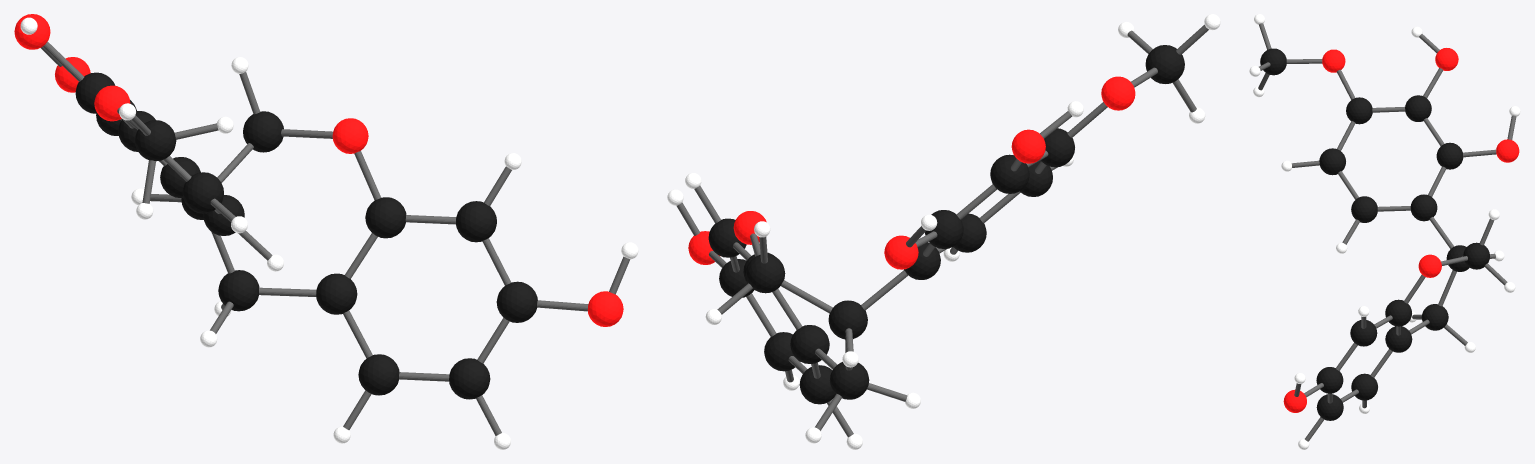
The model's file is molecule.glb.
3 renders of one model, left to right at view 1: azimuth 30°, elevation 25°; view 2: azimuth 150°, elevation 25°; view 3: azimuth 270°, elevation 25°, orthographic. The views are drawn at different scales.
Visible parts, largest first — view 1: geometry_13, geometry_14, geometry_11, geometry_15, geometry_9, geometry_10, geometry_7, geometry_16, geometry_3, geometry_0, geometry_8, geometry_12 (+6 smaller); view 2: geometry_7, geometry_6, geometry_15, geometry_0, geometry_16, geometry_19, geometry_17, geometry_14, geometry_2, geometry_1, geometry_10, geometry_20 (+8 smaller); view 3: geometry_17, geometry_4, geometry_2, geometry_19, geometry_3, geometry_5, geometry_14, geometry_11, geometry_16, geometry_7, geometry_9, geometry_0 (+9 smaller).
Part boxes in pixels (x1,y1,x2,y2): geometry_13: (449, 358, 490, 399); geometry_14: (358, 354, 399, 395); geometry_11: (496, 281, 537, 322); geometry_15: (316, 273, 357, 314); geometry_9: (365, 197, 406, 238); geometry_10: (456, 201, 496, 242); geometry_7: (243, 111, 283, 152); geometry_16: (218, 270, 259, 311); geometry_3: (182, 172, 223, 213); geometry_0: (135, 120, 176, 161); geometry_8: (332, 118, 368, 153); geometry_12: (587, 291, 623, 326); geometry_7: (745, 254, 785, 293); geometry_6: (828, 300, 867, 339); geometry_15: (790, 325, 829, 363); geometry_0: (1145, 45, 1184, 83); geometry_16: (829, 362, 869, 399); geometry_19: (990, 154, 1029, 193); geometry_17: (925, 210, 963, 248); geometry_14: (799, 365, 835, 404); geometry_2: (1041, 128, 1074, 167); geometry_1: (1101, 76, 1135, 110); geometry_10: (708, 218, 746, 257); geometry_20: (1011, 129, 1045, 163); geometry_17: (1436, 142, 1463, 169); geometry_4: (1351, 196, 1377, 222); geometry_2: (1346, 97, 1372, 124); geometry_19: (1405, 95, 1431, 121); geometry_3: (1319, 148, 1345, 175); geometry_5: (1410, 194, 1437, 221); geometry_14: (1351, 373, 1377, 400); geometry_11: (1316, 367, 1343, 393); geometry_16: (1421, 304, 1448, 330); geometry_7: (1463, 242, 1489, 269); geometry_9: (1385, 299, 1411, 326); geometry_0: (1260, 48, 1286, 75).
Bounding box in the file's own units: 0.257 × 0.2104 × 0.1693.
